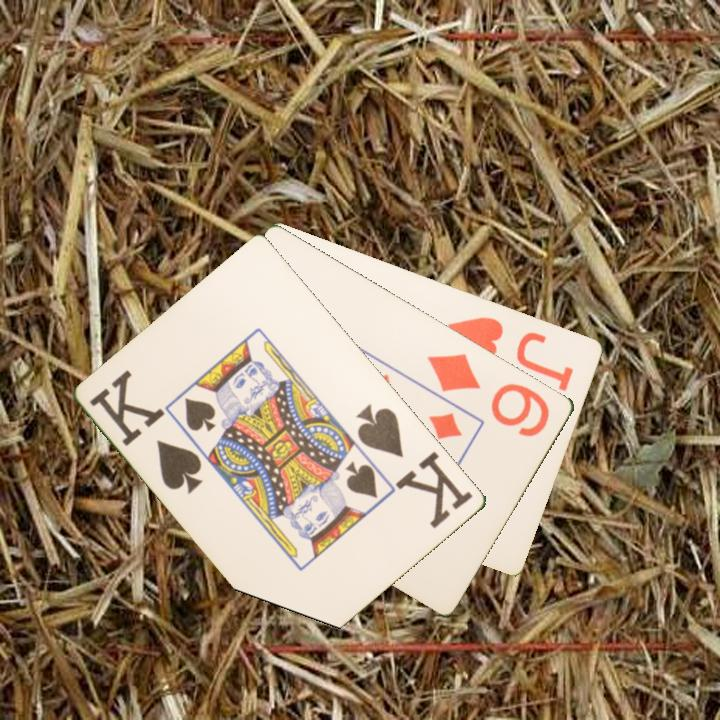6d: (423, 349, 554, 440)
Jh: (444, 312, 577, 394)
Ks: (353, 399, 477, 531), (86, 366, 207, 497)
